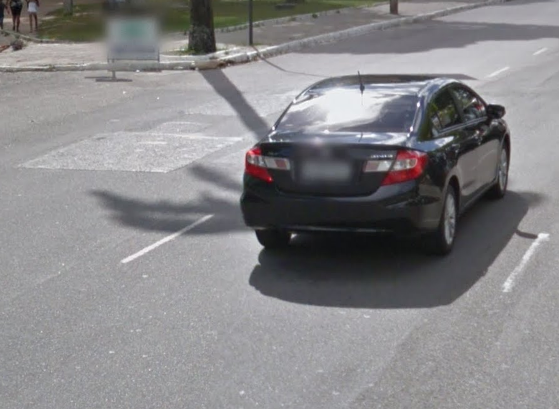car: (236, 66, 515, 262)
